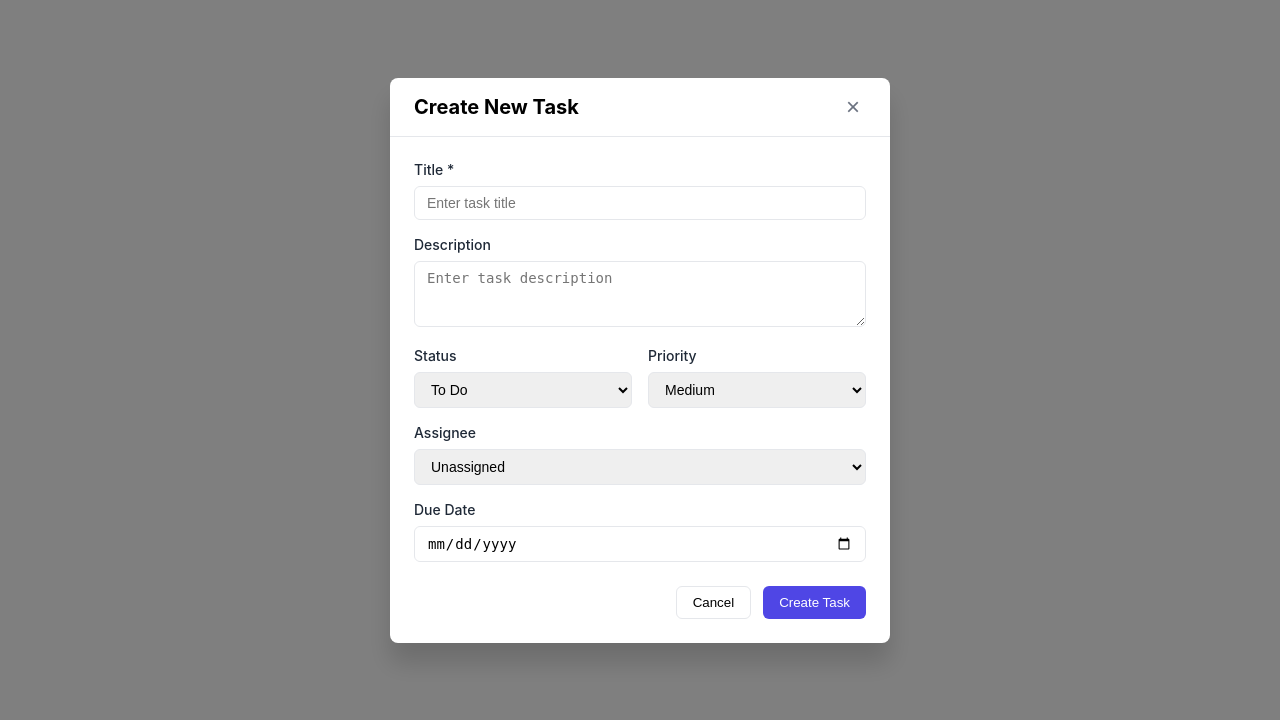
TaskForm › should show assignee validation error for high priority without assignee
This screenshot has width=1280, height=720.
Type "Test task" into the field with test id "form-title-input". click: (640, 202)
box: [414,186,866,220]
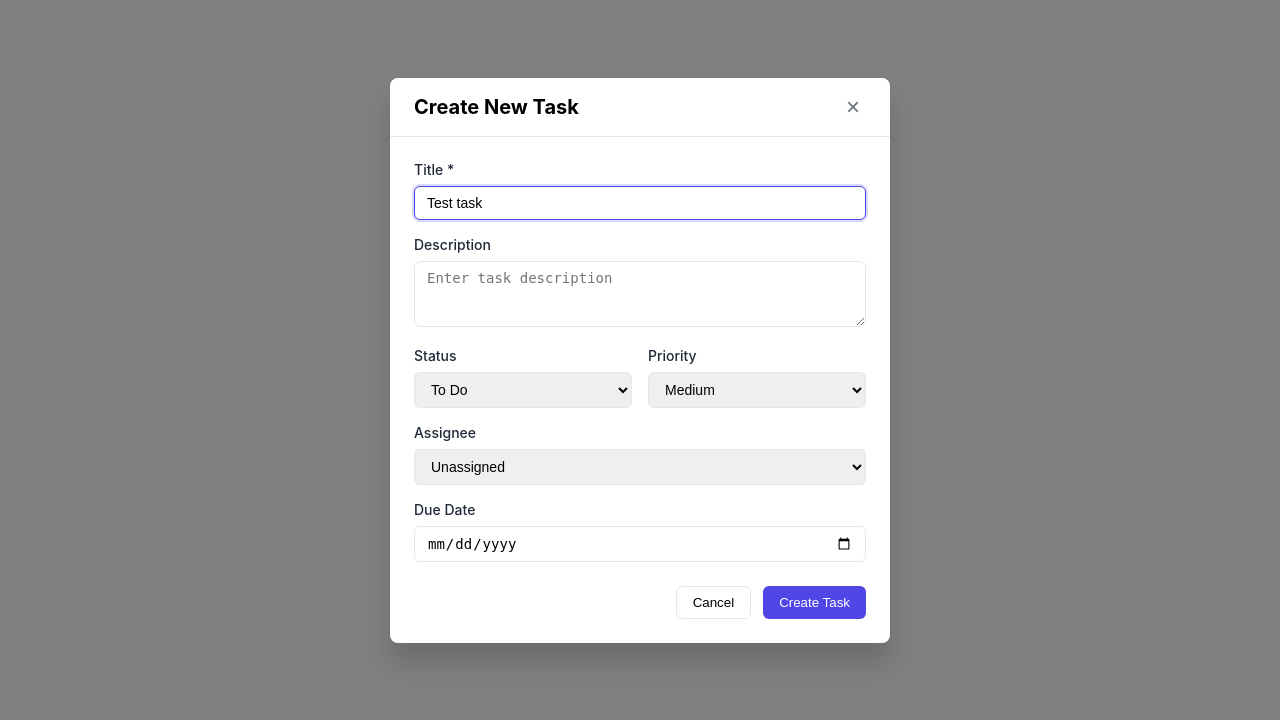
Select "High" in the dropdown with test id "form-priority-input". click: (757, 390)
box: [648,372,866,408]
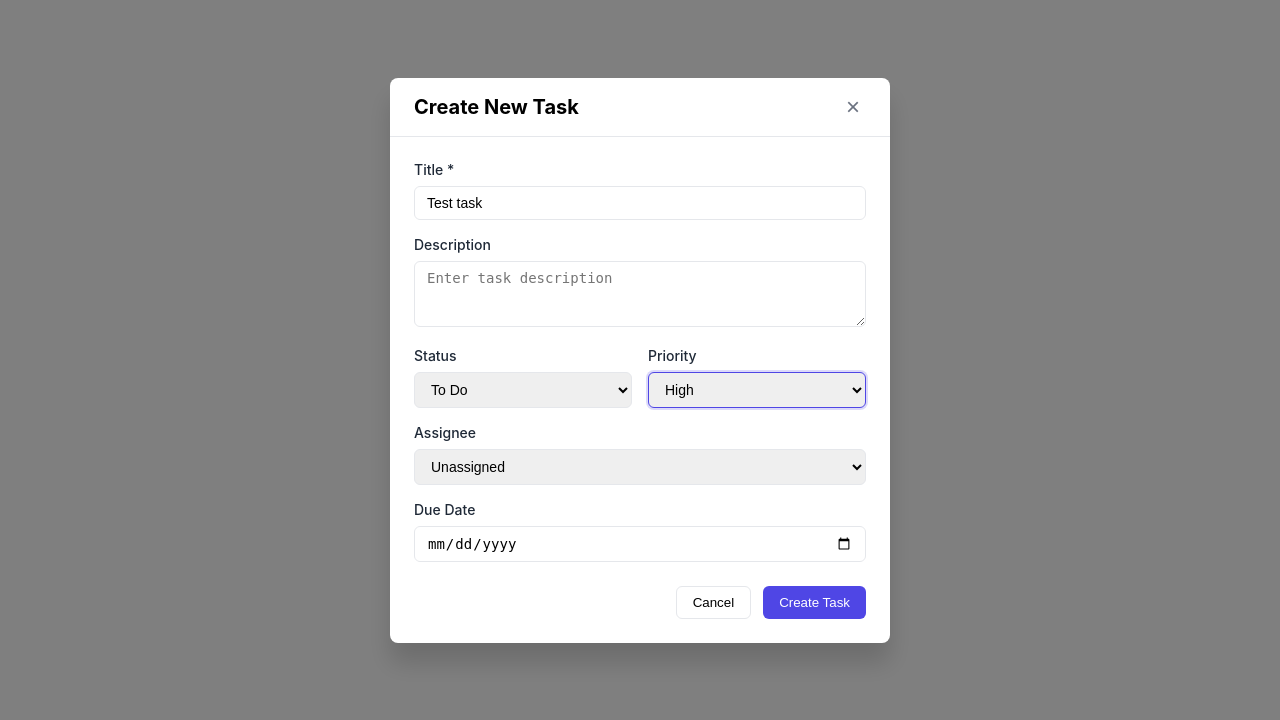
Click the button with test id "form-submit-button". click: (815, 602)
box: [763,586,866,618]
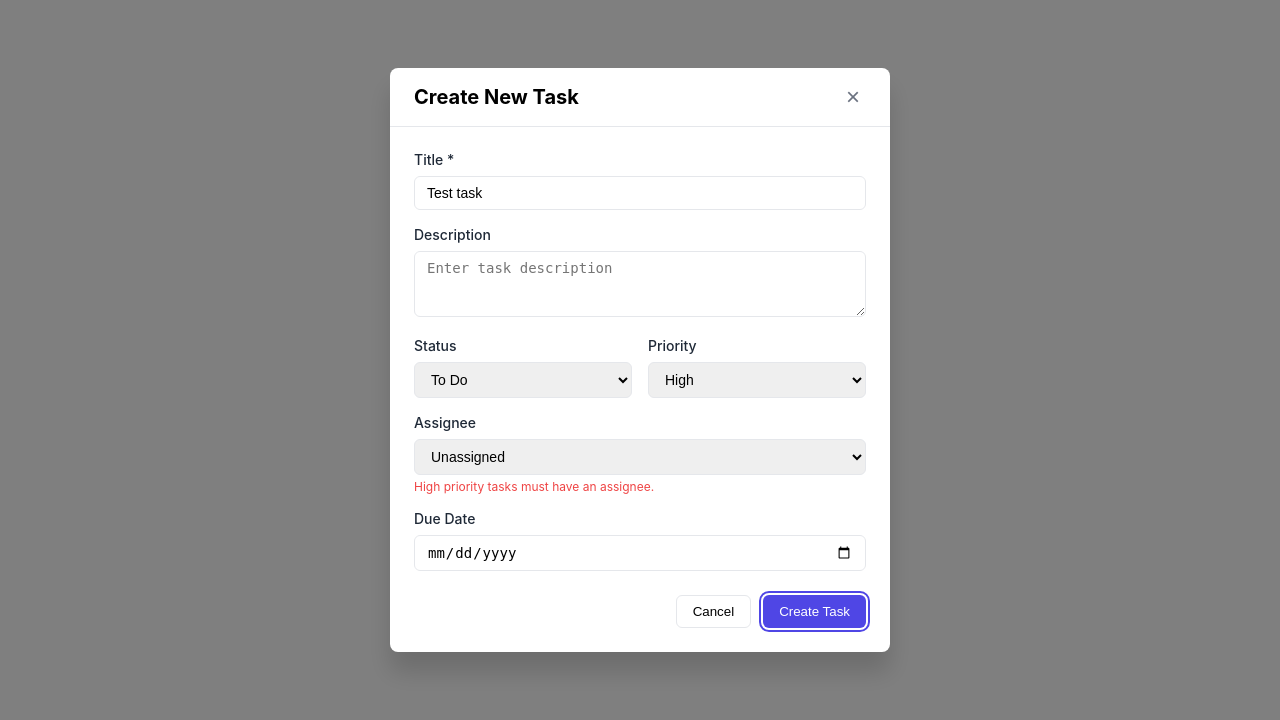
Now the message with test id "form-assignee-error" reads "High priority tasks must have an assignee.", box [414,479,654,494]
